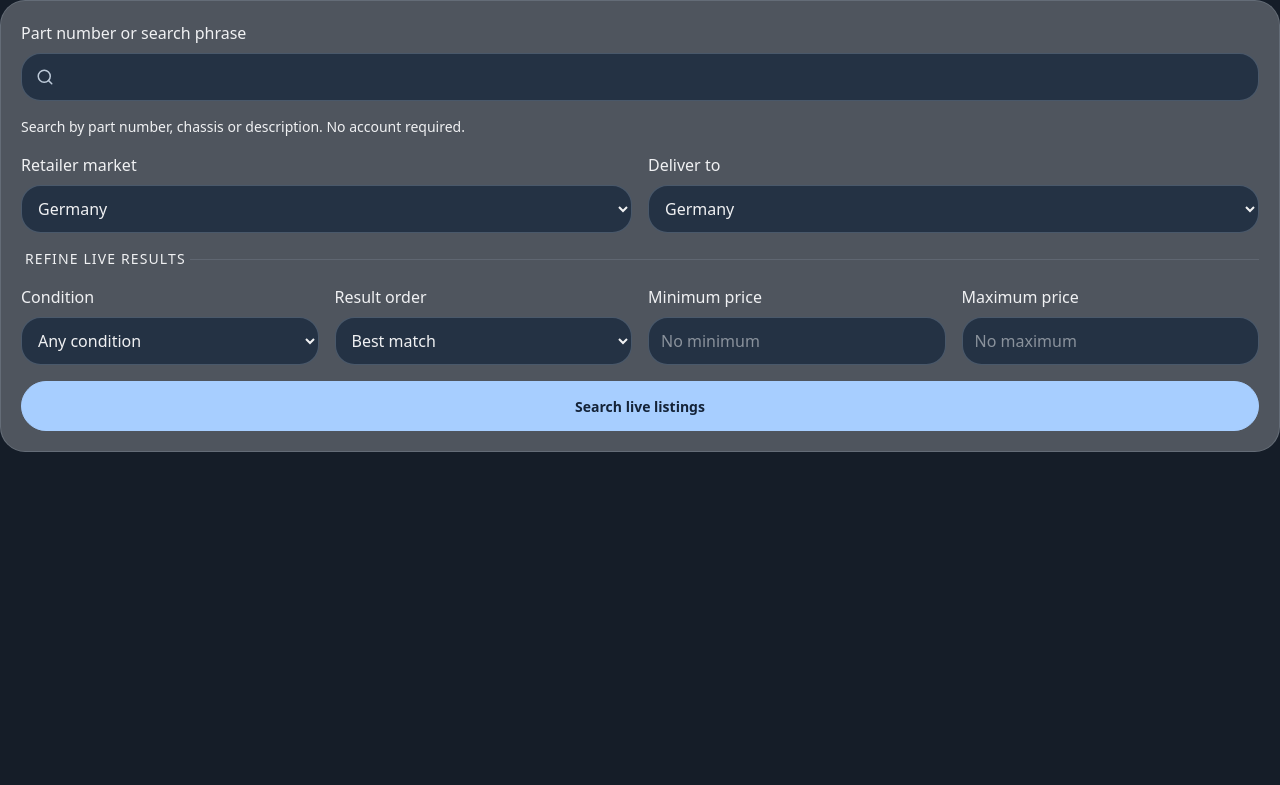
Scenario: sends selected retailer filters and can clear them
Select "Used" in the dropdown labelled "Condition" at (170, 341), box [21,317,318,365]
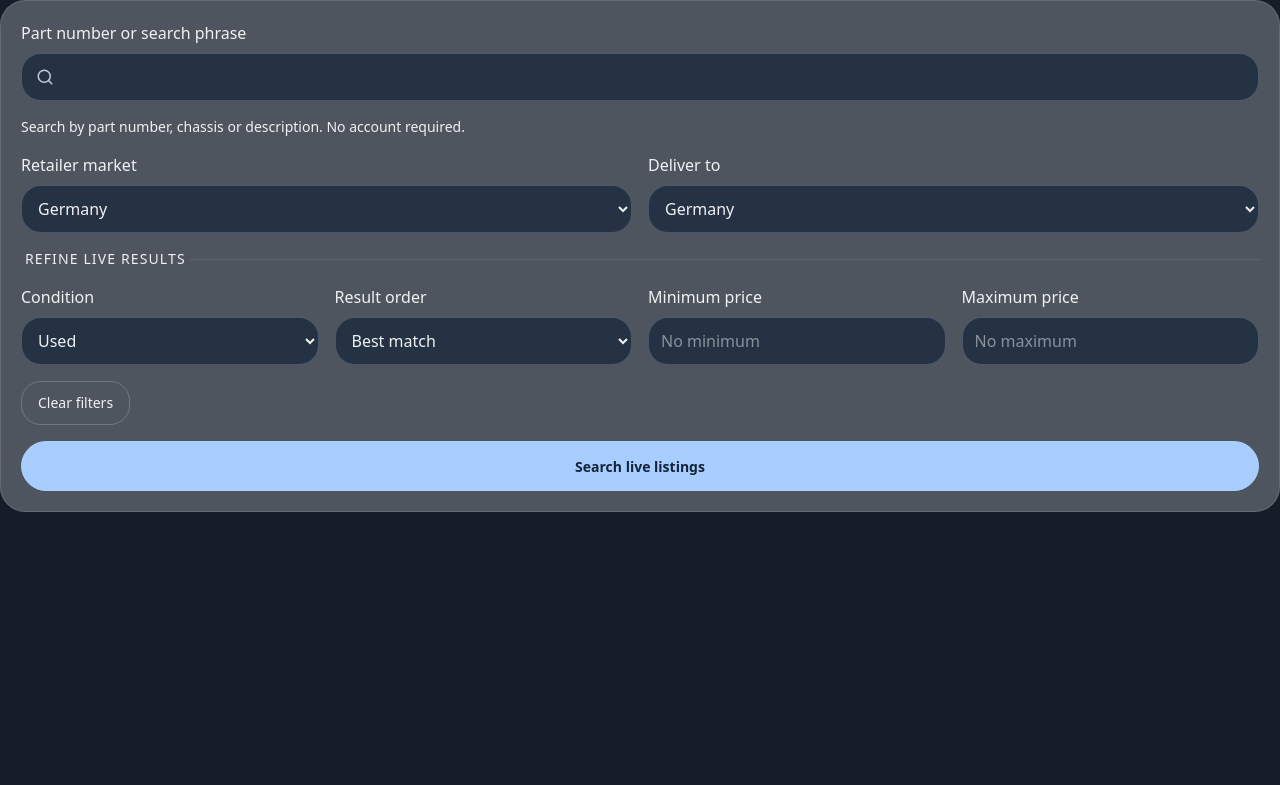
Select "Lowest price" in the dropdown labelled "Result order" at (483, 341), box [334,317,632,365]
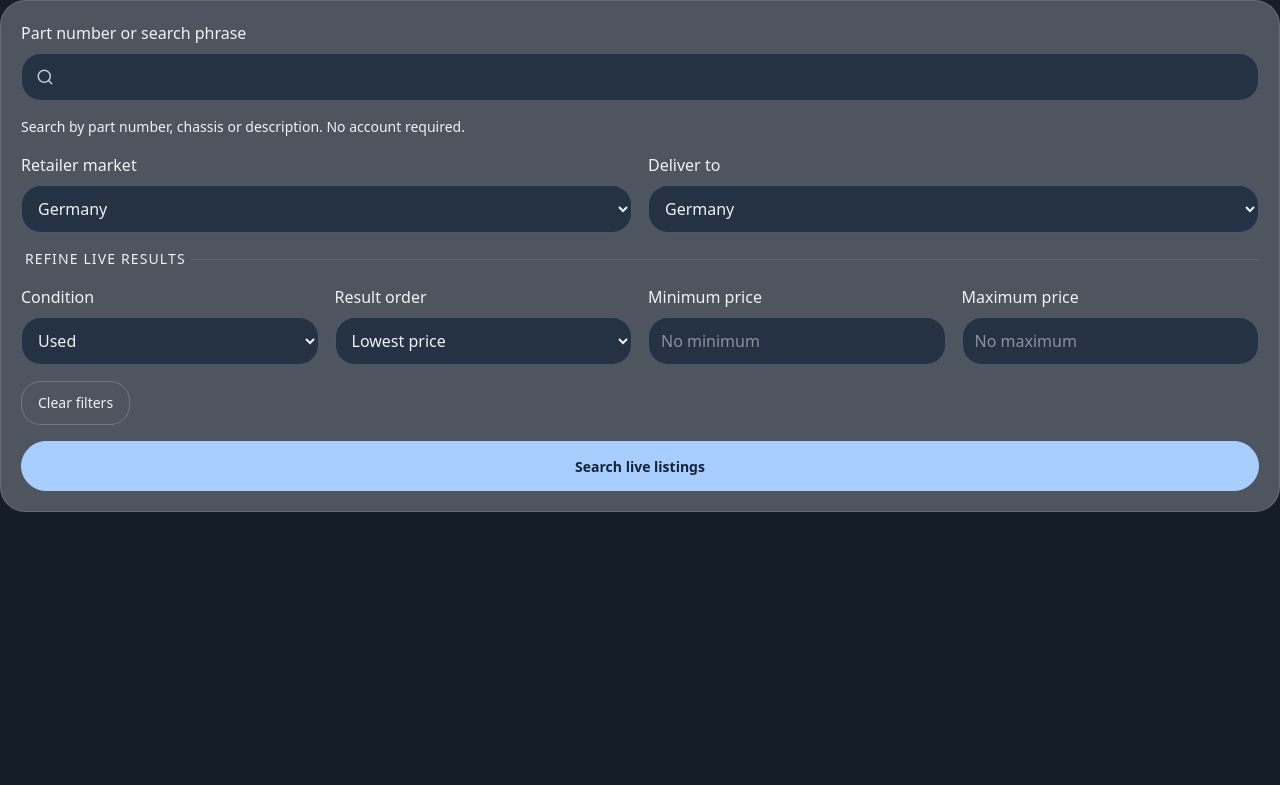
Type "50" into the number field labelled "Minimum price" at (797, 341), box [648,317,946,365]
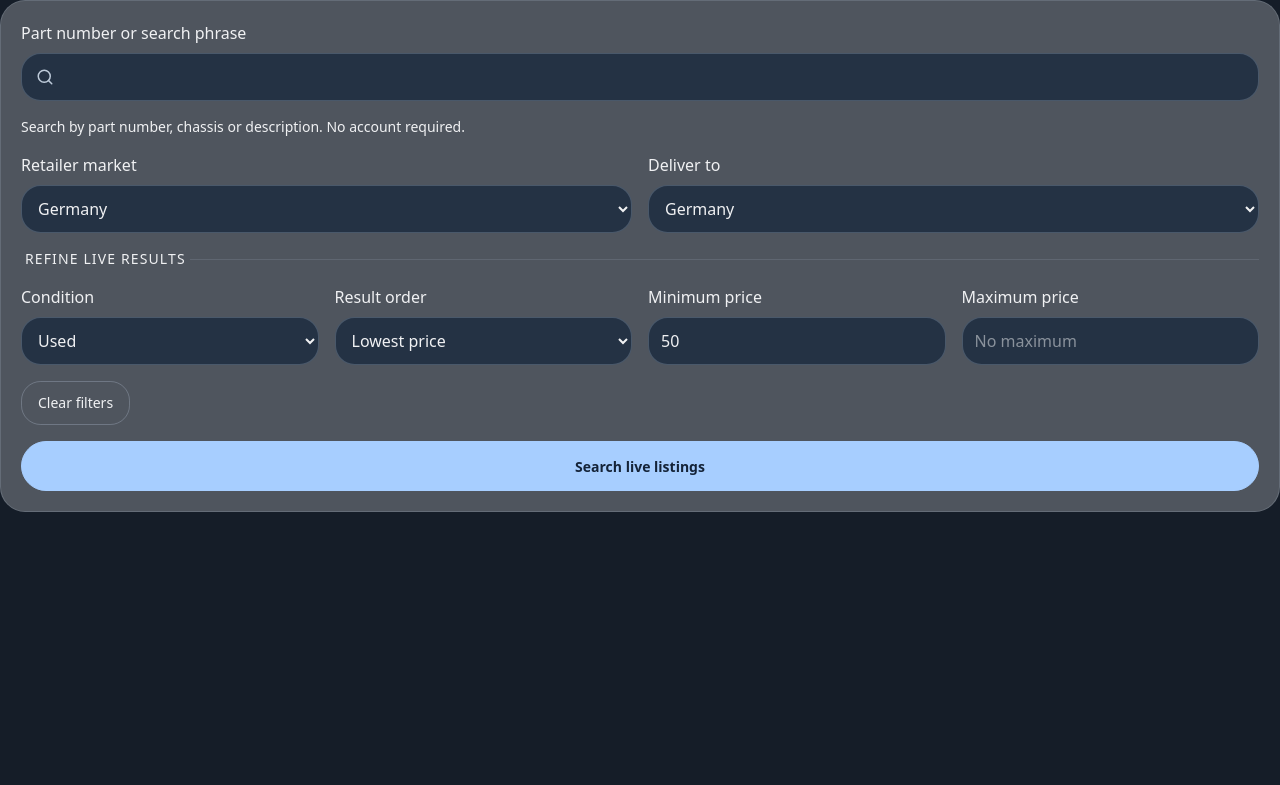
Type "250" into the number field labelled "Maximum price" at (1110, 341), box [962,317,1259,365]
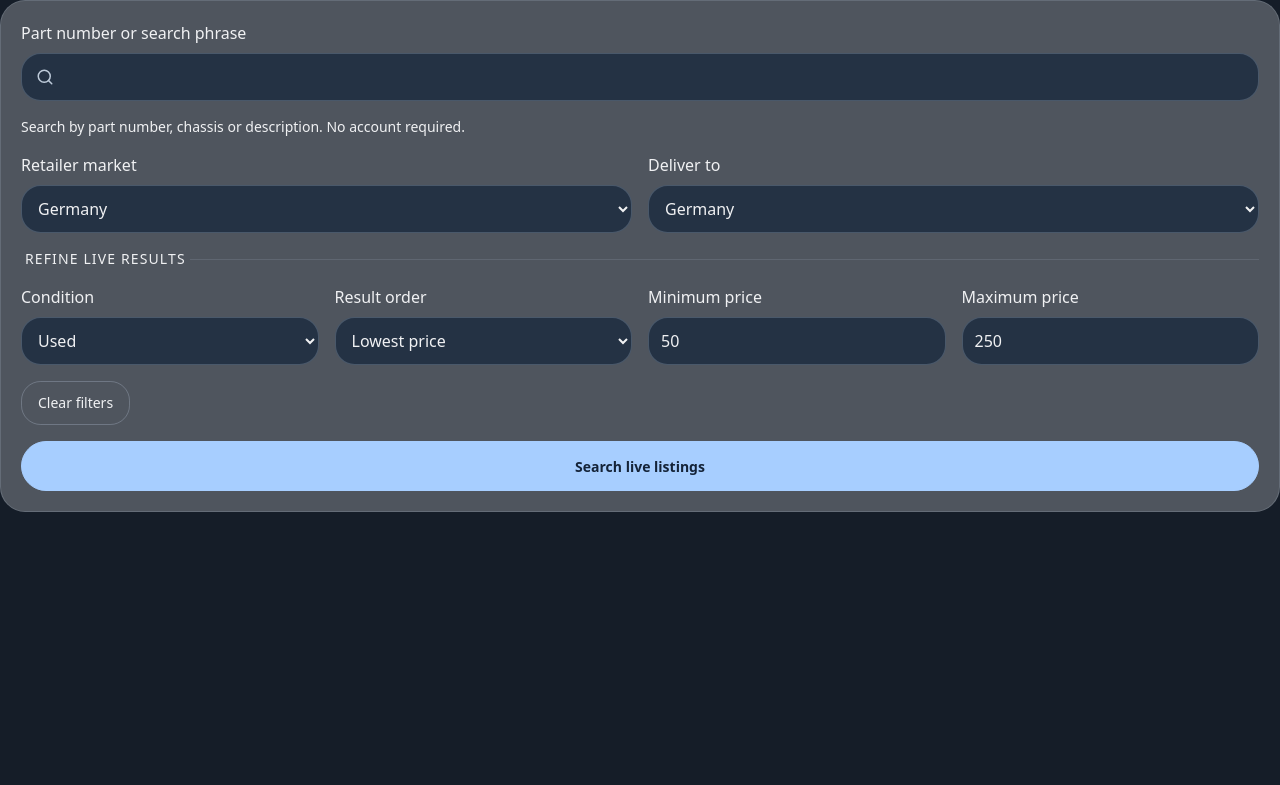
Type "E90 headlights" into the search field at (640, 77), box [21,53,1259,101]
Wait 500 ms
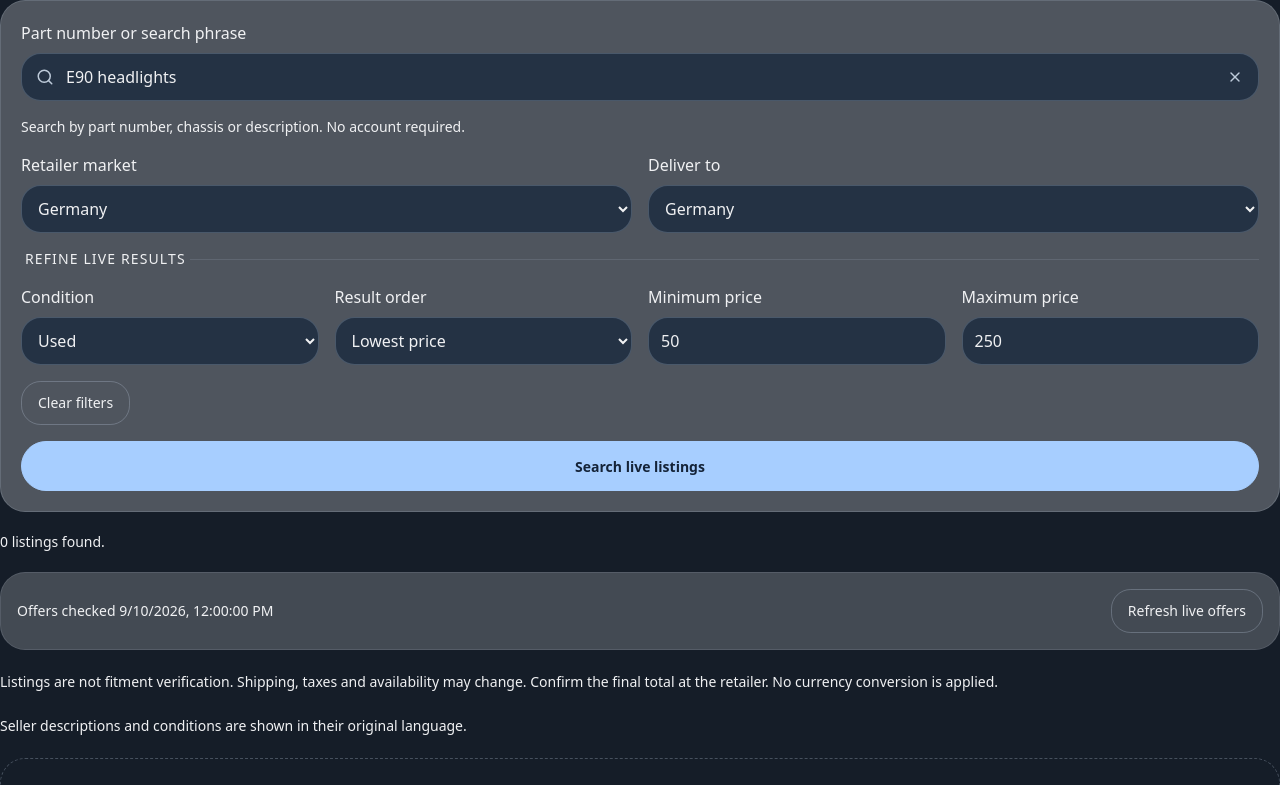
Click the button "Clear filters" at (76, 403), box [21,381,130,425]
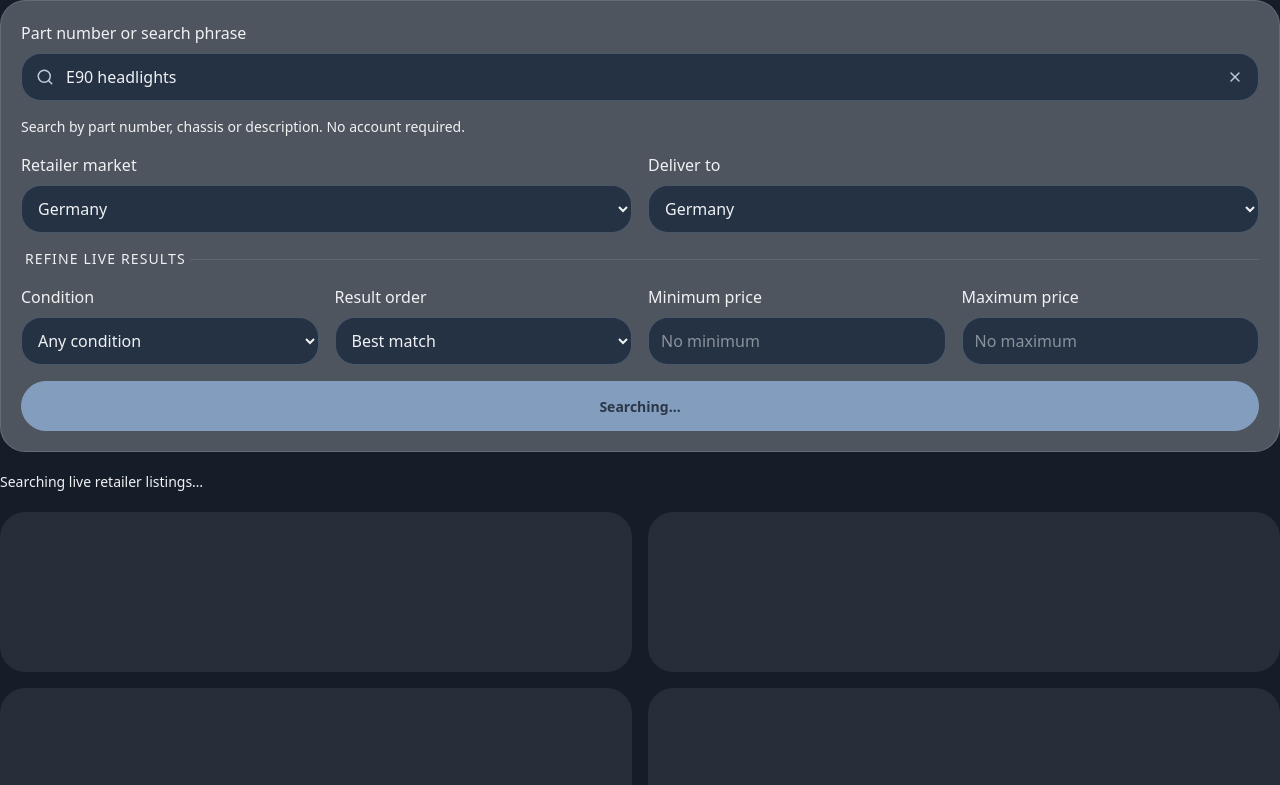
Check: the number field labelled "Minimum price" is not empty, box [648,317,946,365]
Check: the number field labelled "Maximum price" is not empty, box [962,317,1259,365]
